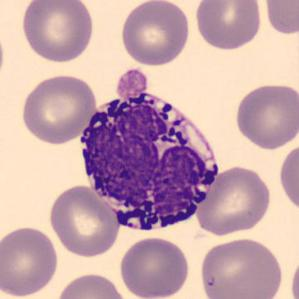Basophil: (72, 83, 225, 241)
Platelets: (113, 66, 150, 100)
RBC: (193, 163, 274, 237), (19, 71, 98, 146), (46, 183, 122, 258), (196, 235, 285, 299), (115, 233, 192, 299), (118, 0, 192, 68), (18, 0, 96, 64), (232, 81, 298, 152), (0, 224, 61, 298), (193, 0, 264, 52), (53, 270, 132, 299), (277, 139, 298, 215), (260, 0, 299, 37), (288, 250, 299, 299), (0, 25, 7, 89)
